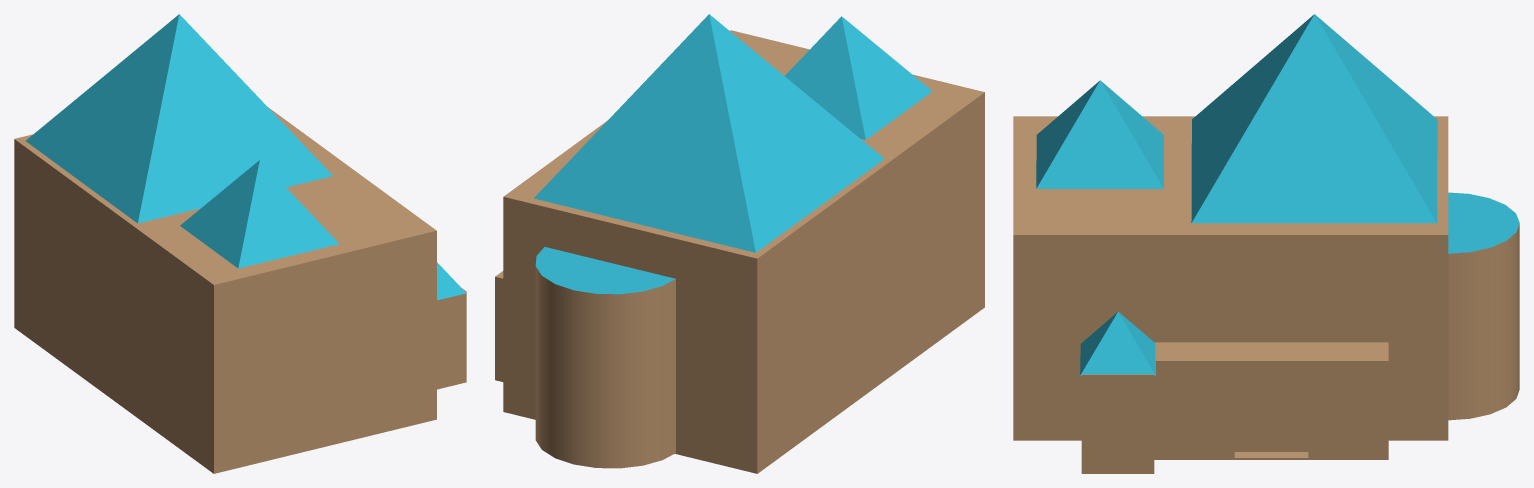
File: librarycolour.fbx
3 views of the same model, side by side, from view 1: azimuth 30°, elevation 25°; view 2: azimuth 150°, elevation 25°; view 3: azimuth 270°, elevation 25° (orthographic). The views are drawn at different scales.
Visible parts, largest first — view 1: pPyramid7; view 2: pPyramid7; view 3: pPyramid7.
Boxes of the visible parts, x1,y1,x2,y2 form: pPyramid7: [14, 14, 466, 473]; pPyramid7: [495, 14, 984, 473]; pPyramid7: [1013, 14, 1519, 473].
Size of the model in its own units: 10.76 by 12.09 by 15.25.
